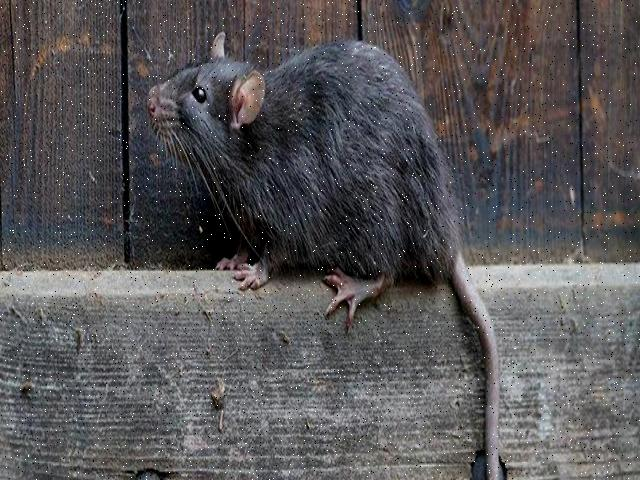Tikus: (137, 26, 518, 331)
